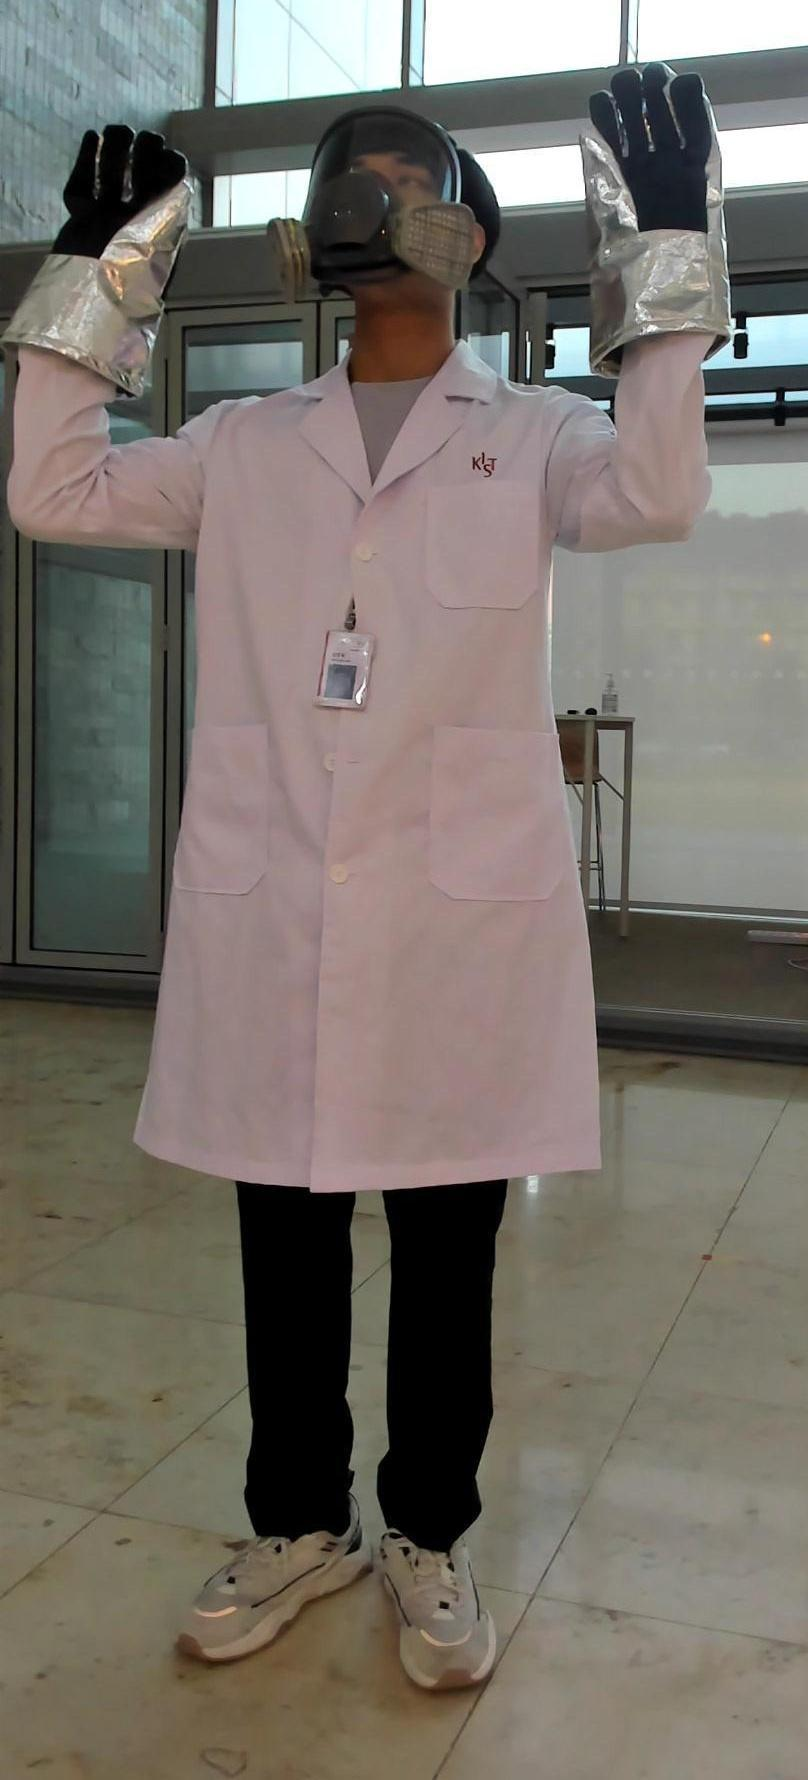lab_coat: (98, 386, 629, 1181)
